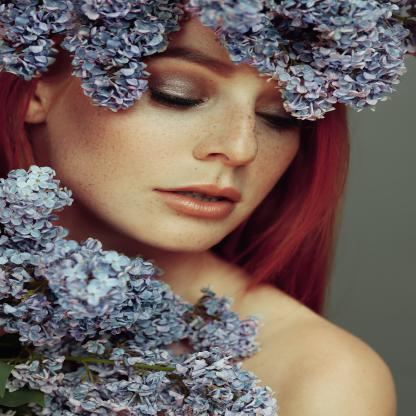Eye: (148, 71, 210, 111), (255, 102, 300, 128)
Mouth: (150, 182, 244, 220)
Nose: (191, 105, 256, 168)
